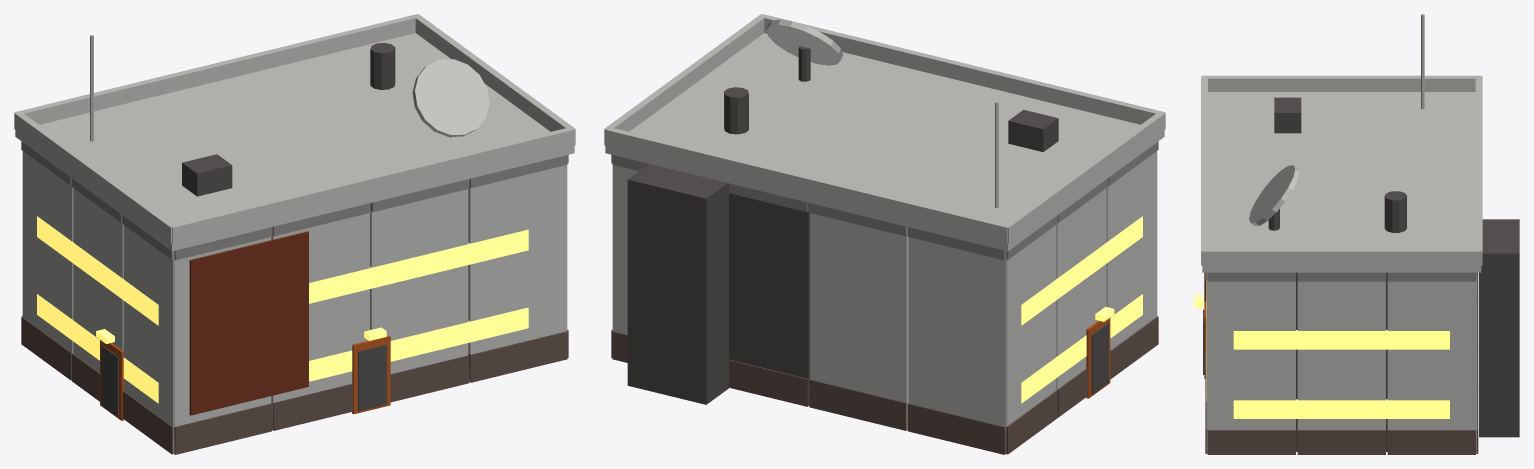
The model's file is B_plant_office.glb.
The picture shows the model from 3 angles, left to right: view 1: azimuth 30°, elevation 25°; view 2: azimuth 150°, elevation 25°; view 3: azimuth 270°, elevation 25°; orthographic projection. The views are drawn at different scales.
Visible parts, largest first — view 1: Cube.058, Cube.042, Cube.009, Cube.006, Cube.059, Cube.003, Cube.060, Cube.024, Cube.030, Cube.027, Cube.054, Cylinder.001 (+23 smaller); view 2: Cube.058, Cube.057, Cube.015, Cube.012, Cube.018, Cube.060, Cube.030, Cube.024, Cube.059, Cube.027, Cube.061, Cube.062 (+17 smaller); view 3: Cube.058, Cube.033, Cube.039, Cube.036, Cube.057, Cube.062, Cube.061, Cube.052, Cube.055, Cube.034, Cube.037, Cube.040 (+11 smaller).
Part boxes in pixels (<box>): Cube.058: <box>15,33,574,251</box>; Cube.042: <box>189,231,308,415</box>; Cube.009: <box>468,165,566,381</box>; Cube.006: <box>370,189,468,373</box>; Cube.059: <box>169,127,575,243</box>; Cube.003: <box>271,213,369,429</box>; Cube.060: <box>14,14,420,124</box>; Cube.024: <box>123,225,174,454</box>; Cube.030: <box>22,151,73,353</box>; Cube.027: <box>73,188,123,372</box>; Cube.054: <box>309,229,528,303</box>; Cylinder.001: <box>412,59,489,136</box>; Cube.058: <box>605,33,1164,251</box>; Cube.057: <box>627,164,728,404</box>; Cube.015: <box>810,213,908,429</box>; Cube.012: <box>908,237,1005,453</box>; Cube.018: <box>729,193,809,405</box>; Cube.060: <box>604,127,1010,243</box>; Cube.030: <box>1005,225,1056,453</box>; Cube.024: <box>1106,151,1157,350</box>; Cube.059: <box>759,14,1165,124</box>; Cube.027: <box>1056,188,1106,390</box>; Cube.061: <box>1005,111,1165,243</box>; Cube.062: <box>604,14,765,144</box>; Cube.058: <box>1202,92,1481,272</box>; Cube.033: <box>1207,281,1295,429</box>; Cube.039: <box>1387,281,1475,429</box>; Cube.036: <box>1297,281,1385,429</box>; Cube.057: <box>1479,219,1519,437</box>; Cube.062: <box>1202,249,1481,265</box>; Cube.061: <box>1202,75,1480,91</box>; Cube.052: <box>1233,399,1449,418</box>; Cube.055: <box>1233,330,1449,349</box>; Cube.034: <box>1207,430,1295,454</box>; Cube.037: <box>1297,430,1385,454</box>; Cube.040: <box>1387,430,1475,454</box>.
Size of the model in its own units: 18.8 by 14.1 by 14.45.
